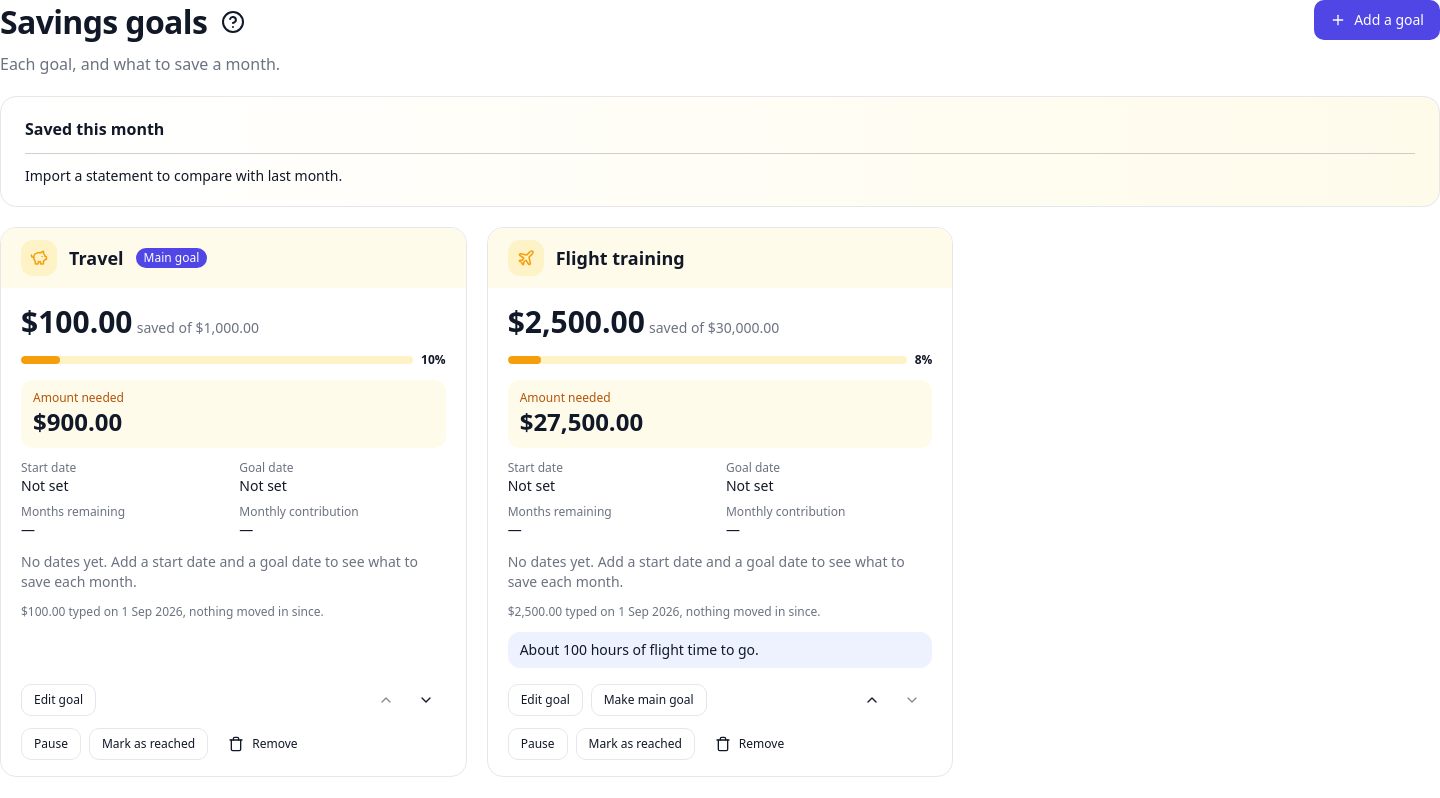
Test: Savings, removing a goal (G1) › refuses to remove a goal holding money, and says why and what to do instead
Click the button "Remove" below "$900.00" at (263, 744), box [216, 728, 310, 760]
(page scrolled)
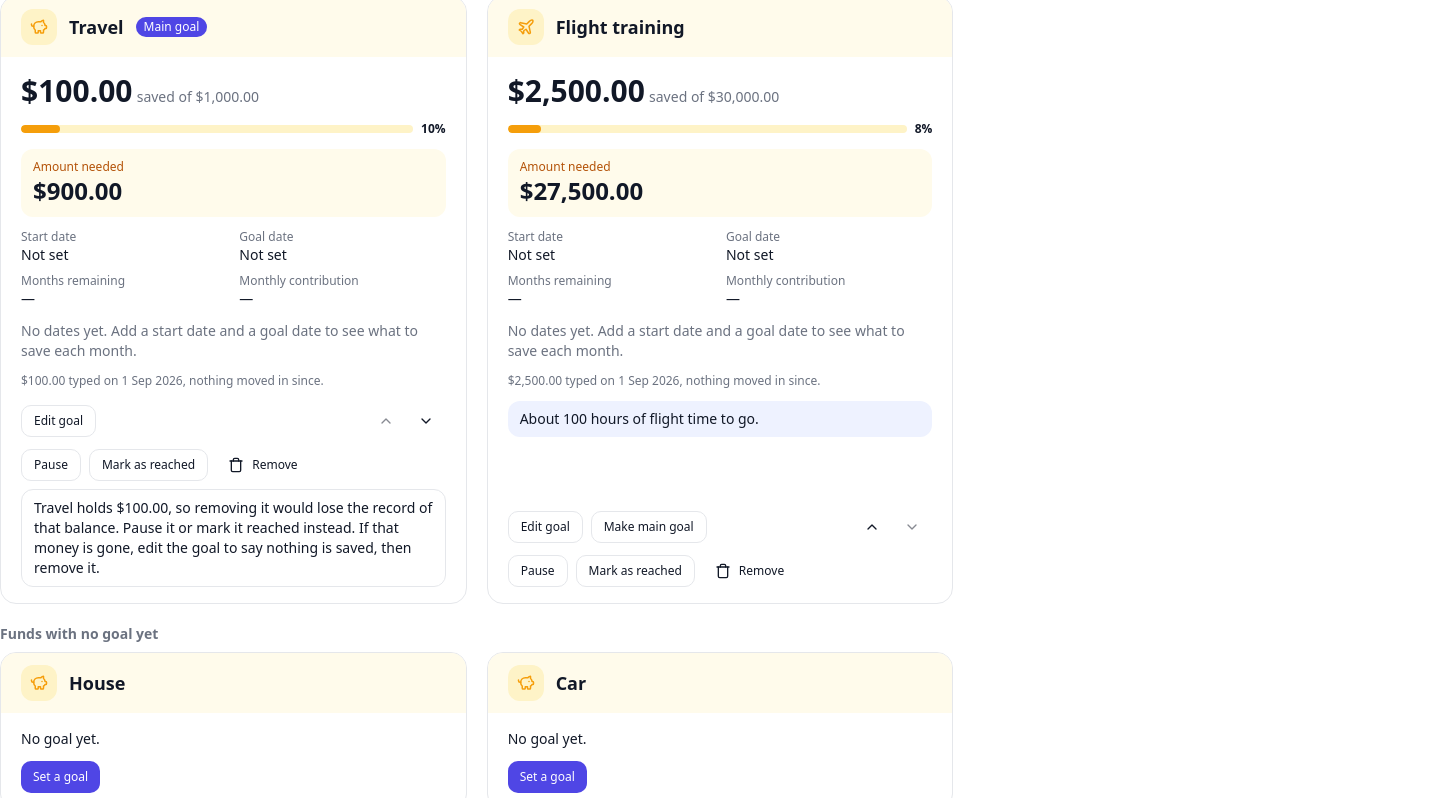
Check: the message shows "Travel holds $100.00, so removing it would lose the record of that balance. Pause it or mark it reached instead. If that money is gone, edit the goal to say not", box [21, 489, 446, 587]
